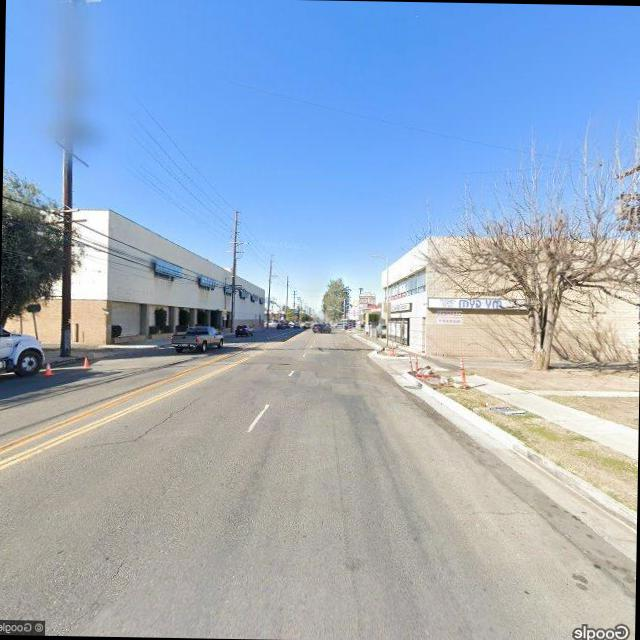crack: (76, 391, 204, 454), (61, 550, 132, 634), (452, 503, 540, 518)
